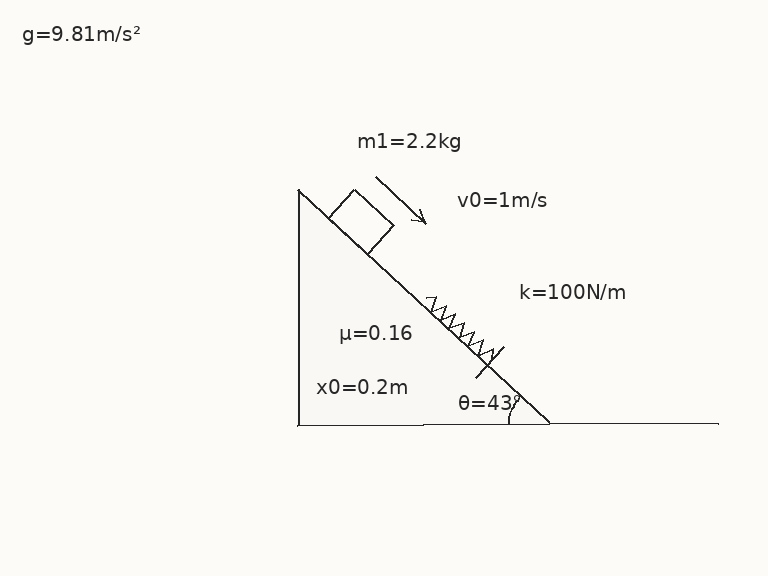block: (326, 187, 395, 256)
ramp: (295, 187, 551, 426)
spring: (425, 295, 494, 361)
